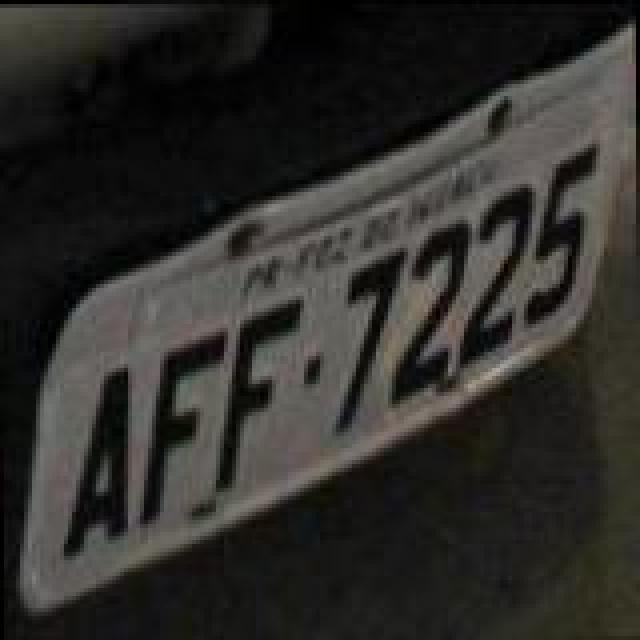2: (386, 216, 478, 408), (452, 180, 540, 368)
5: (520, 142, 604, 330)
7: (326, 246, 410, 438)
A: (60, 360, 136, 560)
F: (136, 324, 236, 532), (208, 298, 308, 494)
